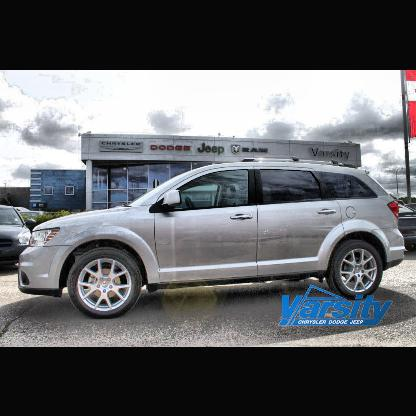Dodge Journey SUV 2012: (18, 158, 406, 321)
